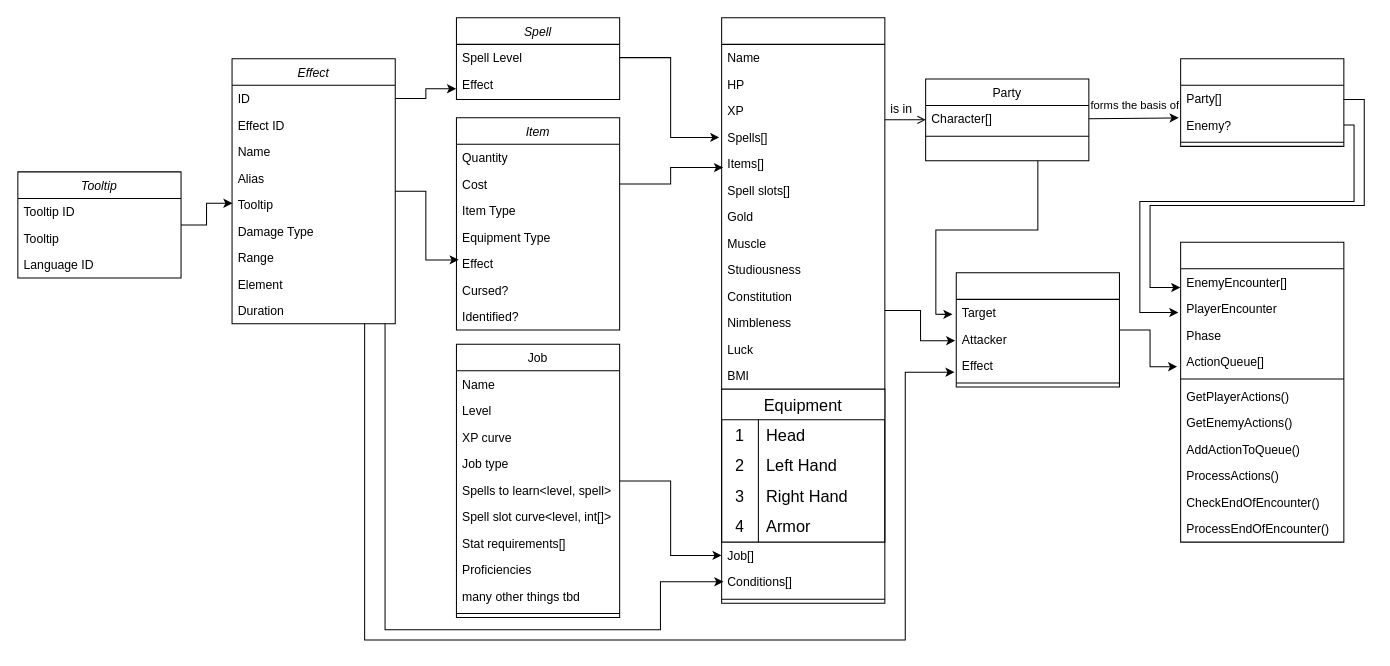
This 1390x666 diagram has some shape labels left out. Here are the shapes that lost their labels. From the top down, the box of each, then its label:
(1180, 58, 1344, 146): Encounter
(721, 17, 885, 603): Character
(955, 272, 1119, 387): Action
(1180, 241, 1344, 542): Encounter Manager
